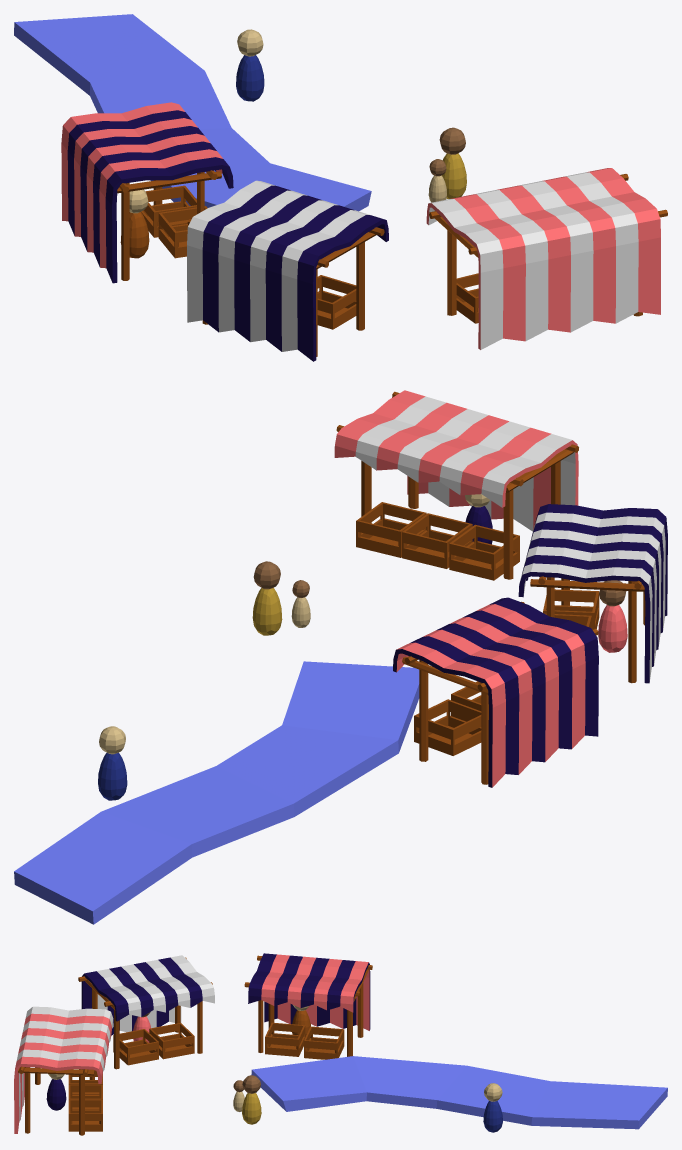
The model's file is market.glb.
3 renders of one model, top to bottom at view 1: azimuth 30°, elevation 25°; view 2: azimuth 150°, elevation 25°; view 3: azimuth 270°, elevation 25°, orthographic. The views are drawn at different scales.
Visible parts, largest first — view 1: StallWood, SW2, PlazaRoad, SW3, Crate.003, Human.005, Human.003, Crate.006, Crate.005, Human.002, Crate.002, Human.004; view 2: PlazaRoad, SW3, StallWood, SW2, Crate.002, Crate.006, Crate.001, Crate, Human.005, Human.003, Human.001, Crate.003 (+1 smaller); view 3: PlazaRoad, SW3, SW2, StallWood, Crate.003, Crate.005, Crate.006, Crate.004, Crate, Human.003, Human.005, Human (+4 smaller).
Boxes of the visible parts, left/top/right/bottom form: StallWood: left=426, top=168, right=667, bottom=349; SW2: left=187, top=180, right=388, bottom=361; PlazaRoad: left=14, top=14, right=371, bottom=211; SW3: left=61, top=102, right=233, bottom=283; Crate.003: left=317, top=275, right=356, bottom=329; Human.005: left=236, top=29, right=264, bottom=101; Human.003: left=439, top=127, right=466, bottom=198; Crate.006: left=141, top=185, right=196, bottom=237; Crate.005: left=158, top=206, right=207, bottom=258; Human.002: left=120, top=189, right=149, bottom=258; Crate.002: left=456, top=273, right=478, bottom=323; Human.004: left=428, top=159, right=446, bottom=202; PlazaRoad: left=14, top=661, right=419, bottom=924; SW3: left=393, top=597, right=598, bottom=787; StallWood: left=334, top=390, right=578, bottom=579; SW2: left=518, top=504, right=667, bottom=683; Crate.002: left=449, top=524, right=519, bottom=580; Crate.006: left=414, top=699, right=481, bottom=755; Crate.001: left=402, top=513, right=472, bottom=568; Crate: left=356, top=502, right=426, bottom=557; Human.005: left=98, top=726, right=127, bottom=800; Human.003: left=252, top=561, right=282, bottom=635; Human.001: left=598, top=580, right=627, bottom=652; Crate.003: left=543, top=589, right=599, bottom=629; PlazaRoad: left=251, top=1056, right=667, bottom=1129; SW3: left=244, top=953, right=372, bottom=1056; SW2: left=78, top=955, right=214, bottom=1069; StallWood: left=14, top=1006, right=113, bottom=1135; Crate.003: left=113, top=1029, right=158, bottom=1065; Crate.005: left=265, top=1022, right=305, bottom=1056; Crate.006: left=304, top=1026, right=344, bottom=1059; Crate.004: left=149, top=1023, right=194, bottom=1059; Crate: left=68, top=1099, right=102, bottom=1131; Human.003: left=242, top=1075, right=261, bottom=1124; Human.005: left=483, top=1083, right=502, bottom=1132; Human: left=46, top=1074, right=66, bottom=1110.
Bounding box in the file's own units: 3.31 × 1.08 × 7.13.
